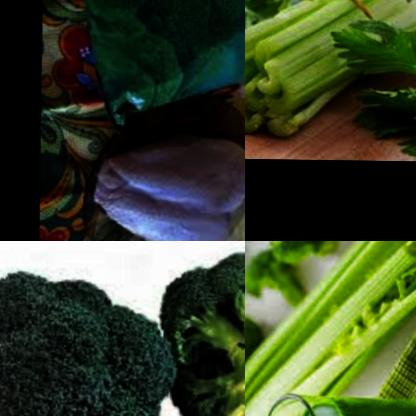broccoli: (0, 246, 188, 416), (149, 241, 245, 416), (77, 0, 240, 52), (245, 246, 310, 311), (245, 280, 261, 416), (245, 241, 335, 265)
celery: (245, 241, 416, 416), (245, 0, 416, 144), (406, 315, 416, 380)
